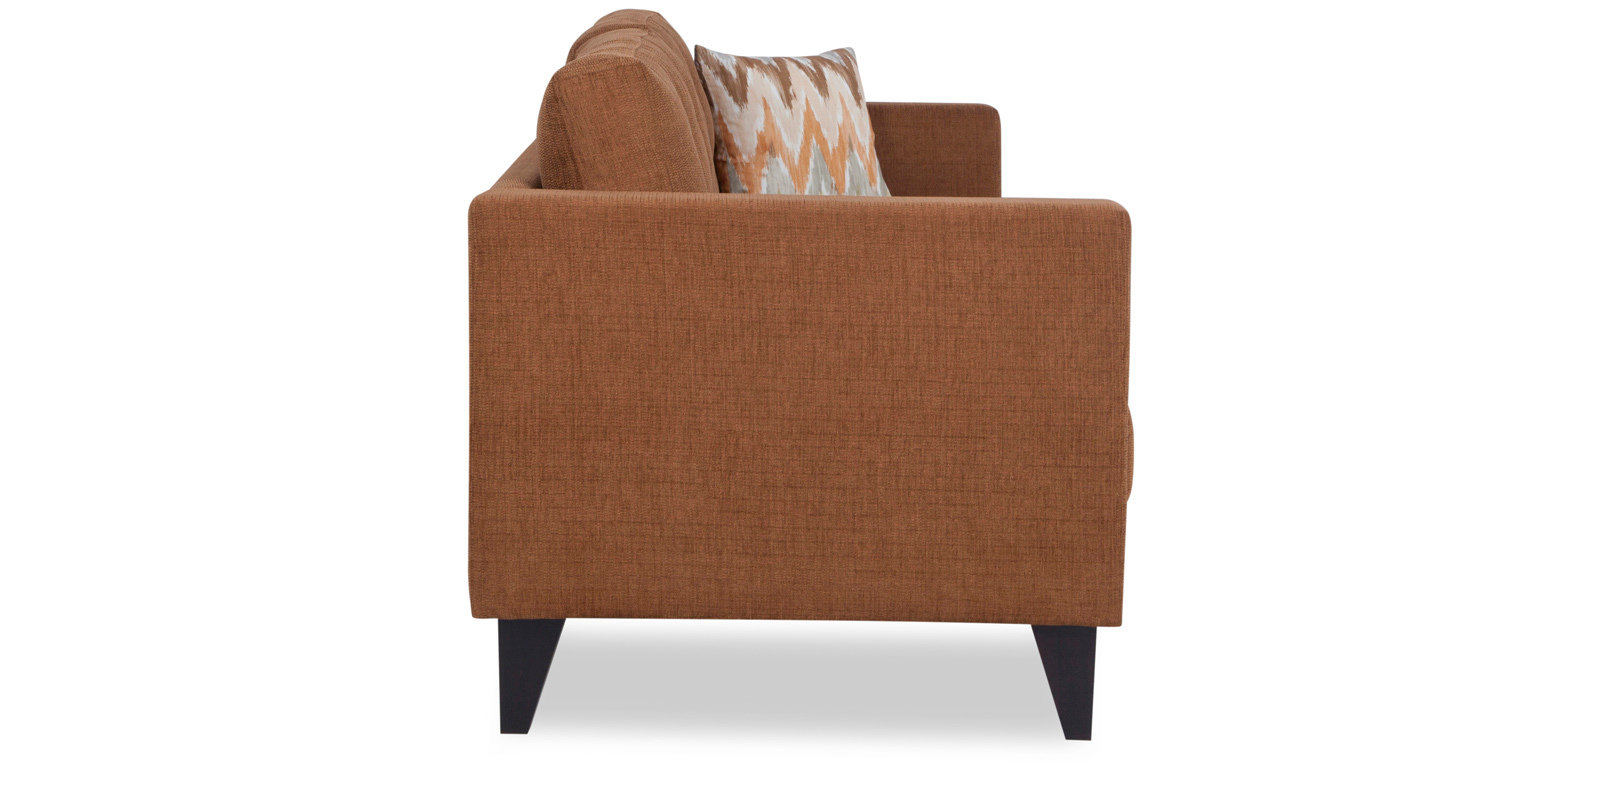Greenwich Three Seater Sofa in Caramel Brown Colour by Urban Living: (442, 1, 1148, 769)
